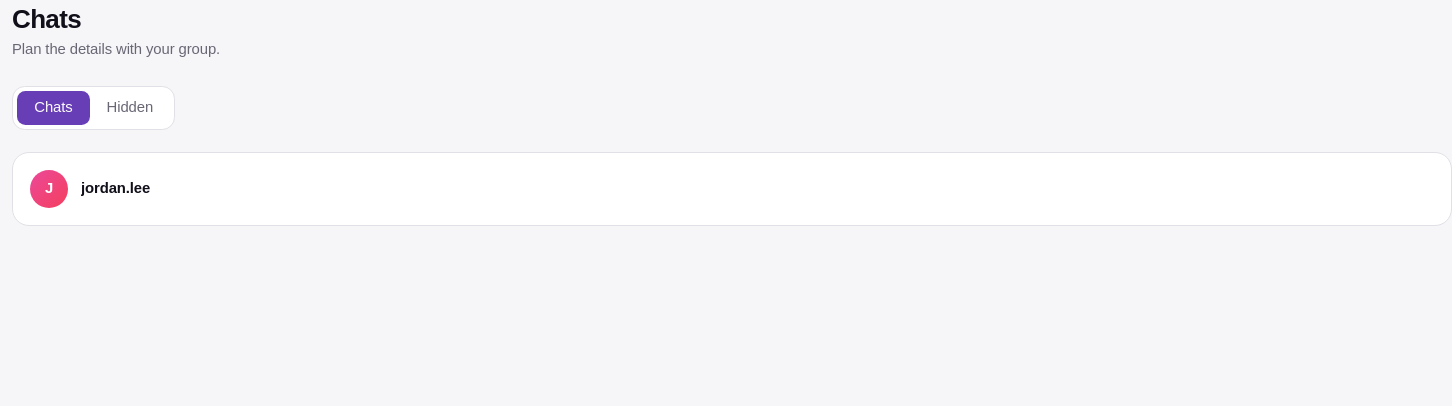
it: ChatRoomsPage › shows Chats by default and switches to Hidden behind the PIN prompt
This screenshot has width=1452, height=406.
Expected: the text "jordan.lee" is shown, [81, 178, 150, 199]
Click the link "Hidden".
click(130, 107)  # box [107, 99, 153, 115]
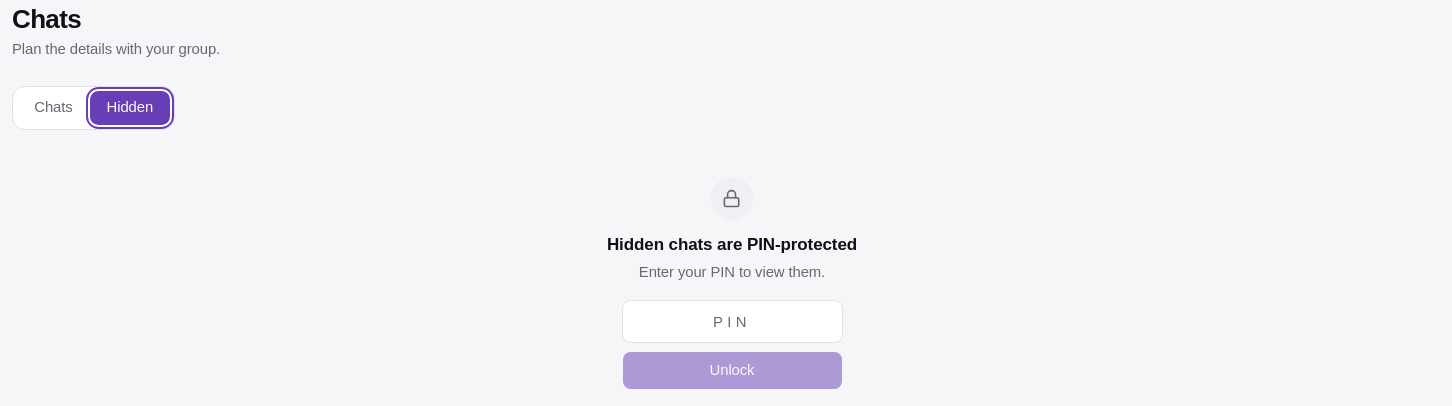
Expected: the text "Hidden chats are PIN-protected" is shown, [607, 232, 857, 258]
Expected: the text "jordan.lee" is gone
Type "1234" into the password field labelled "PIN".
click(732, 322); type("1234")  # box [622, 300, 842, 343]
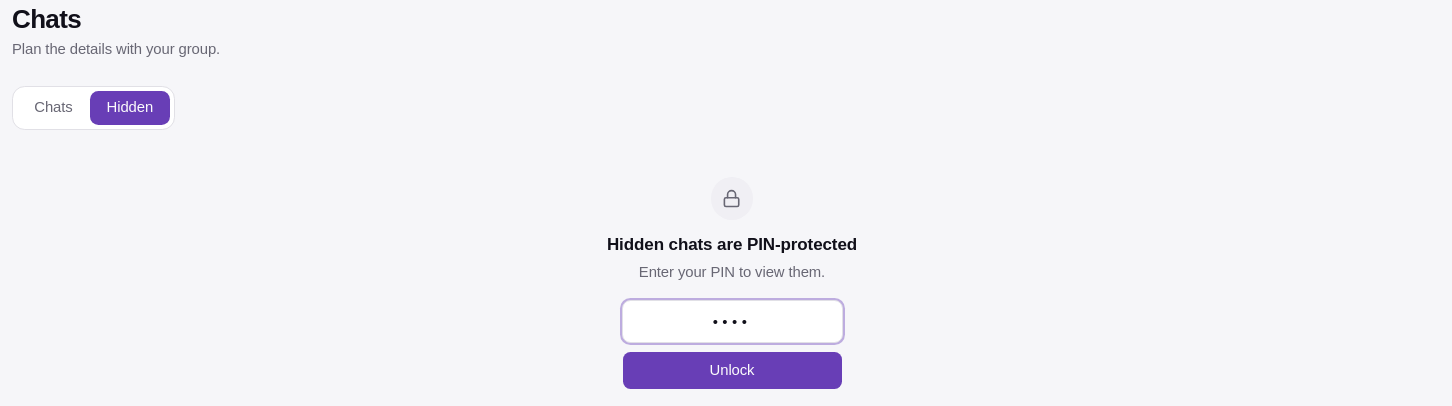
Click the button "Unlock".
click(732, 370)  # box [622, 351, 842, 390]
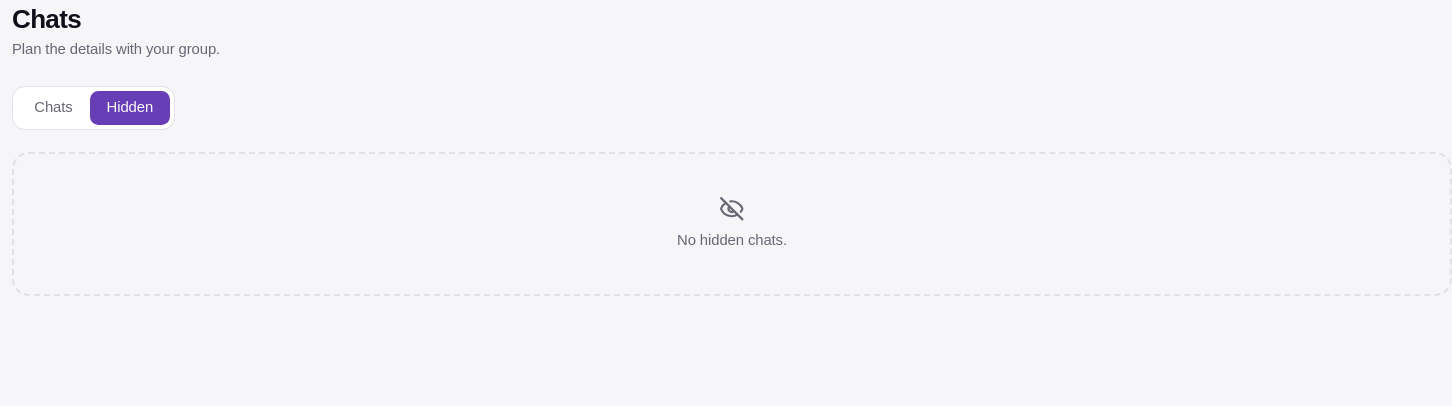
Expected: the text "No hidden chats." is shown, [677, 230, 787, 251]
